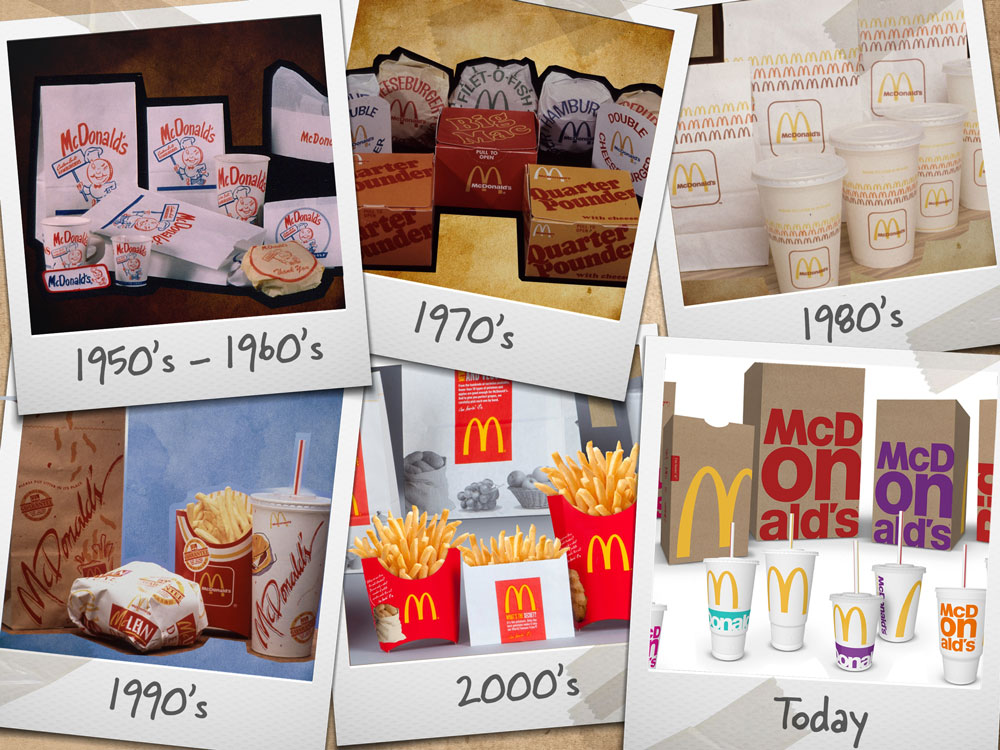mcdonalds: (674, 451, 751, 553), (674, 463, 751, 553), (765, 566, 807, 613), (463, 157, 507, 201), (584, 529, 629, 570), (461, 416, 505, 454), (834, 605, 868, 643), (707, 568, 739, 606), (386, 93, 422, 126), (399, 591, 436, 623), (552, 119, 596, 145), (502, 582, 535, 613), (609, 129, 636, 163), (196, 571, 225, 599), (475, 84, 507, 109), (534, 165, 568, 181)
